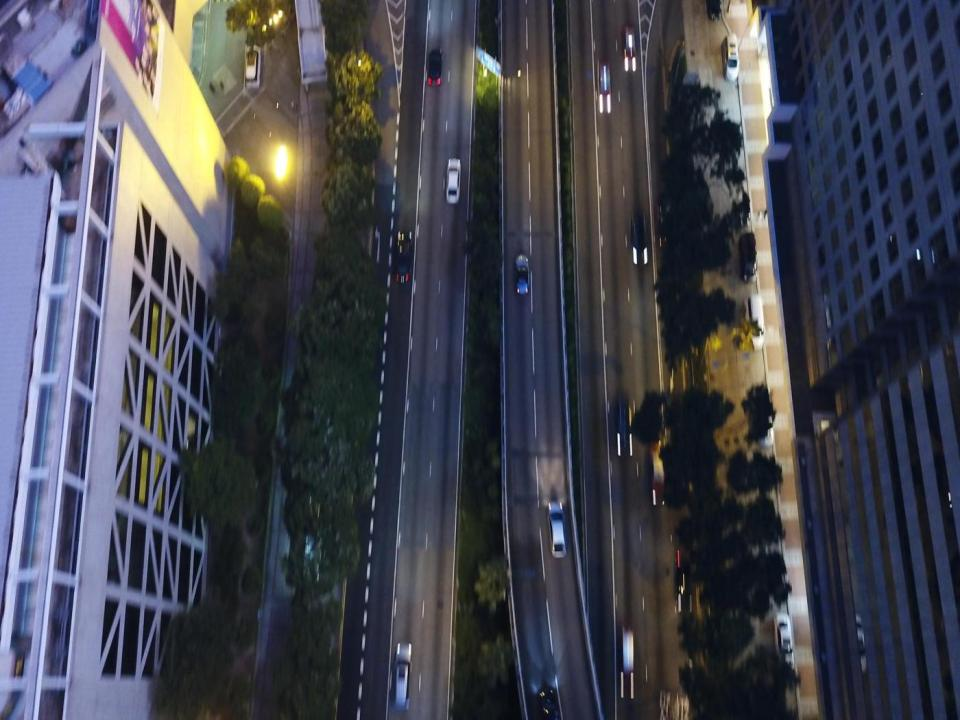car: (774, 614, 798, 684), (612, 396, 635, 460), (619, 628, 637, 696), (243, 36, 262, 90), (395, 230, 412, 284), (631, 214, 649, 265), (538, 684, 561, 719), (596, 67, 612, 115), (514, 257, 531, 295), (623, 26, 637, 72), (426, 50, 442, 85)
truck: (292, 0, 331, 86)
van: (394, 642, 412, 710), (548, 499, 568, 560), (721, 33, 740, 82), (446, 159, 459, 202)
